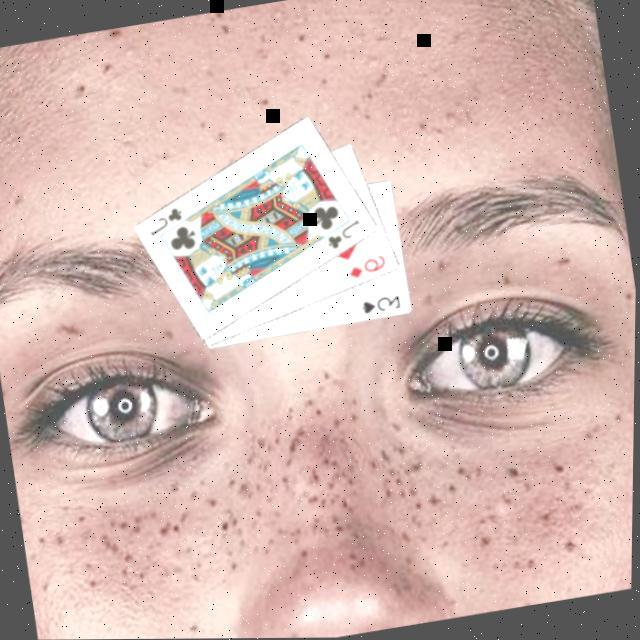3S: (359, 290, 406, 318)
6D: (345, 248, 393, 282)
JC: (323, 214, 368, 252), (146, 201, 190, 238)
